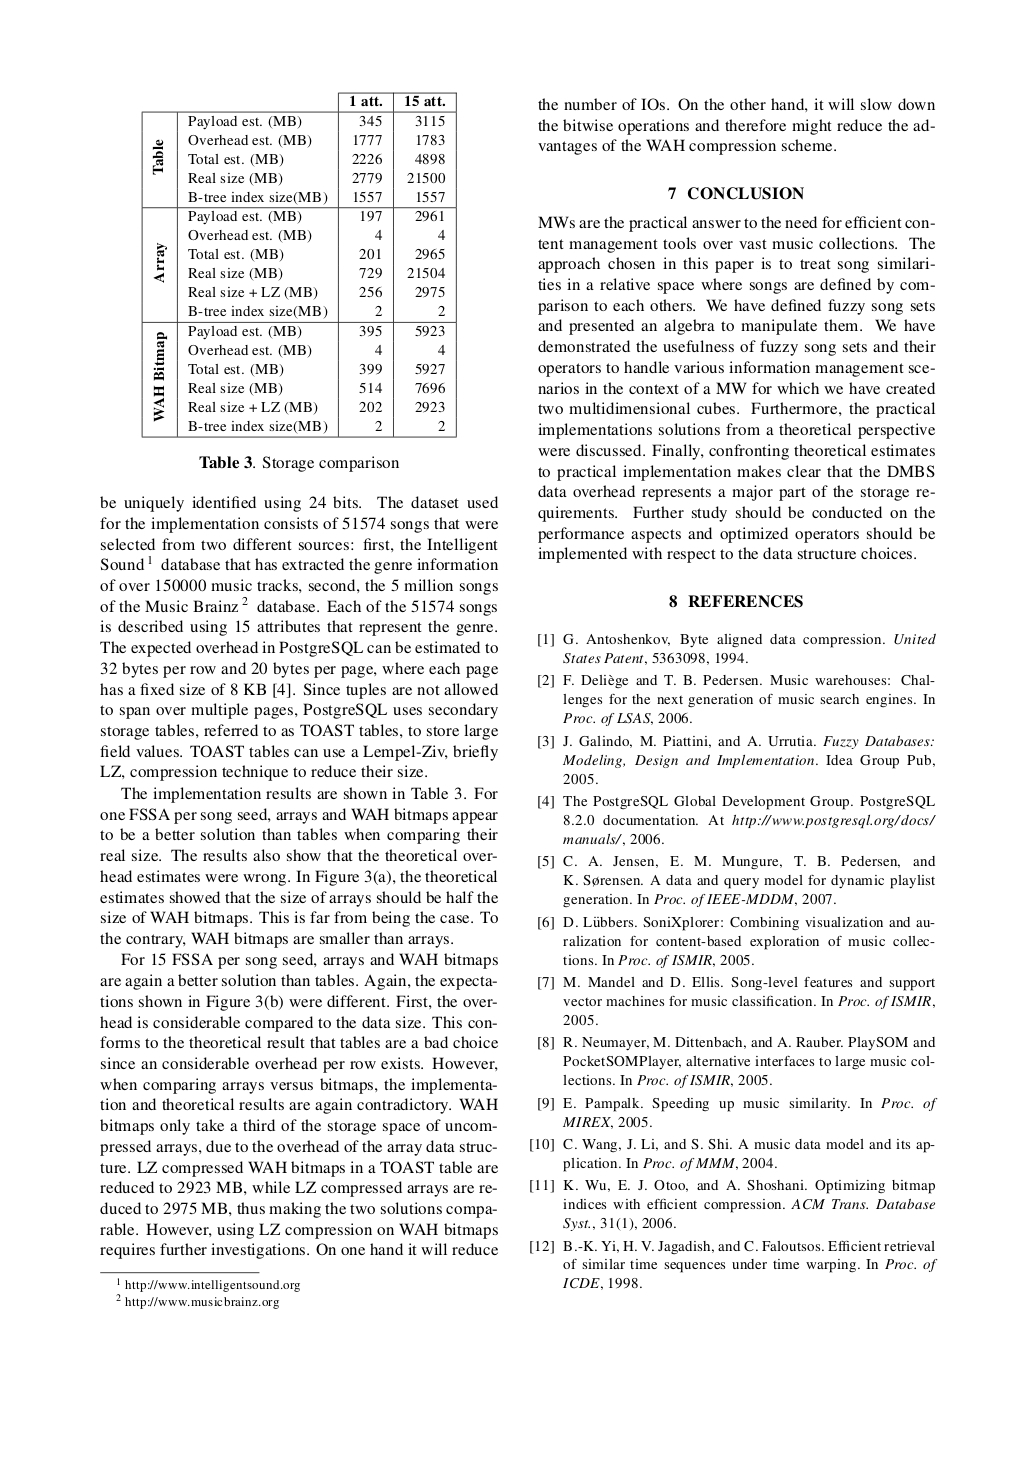Table: (141, 92, 456, 438)
